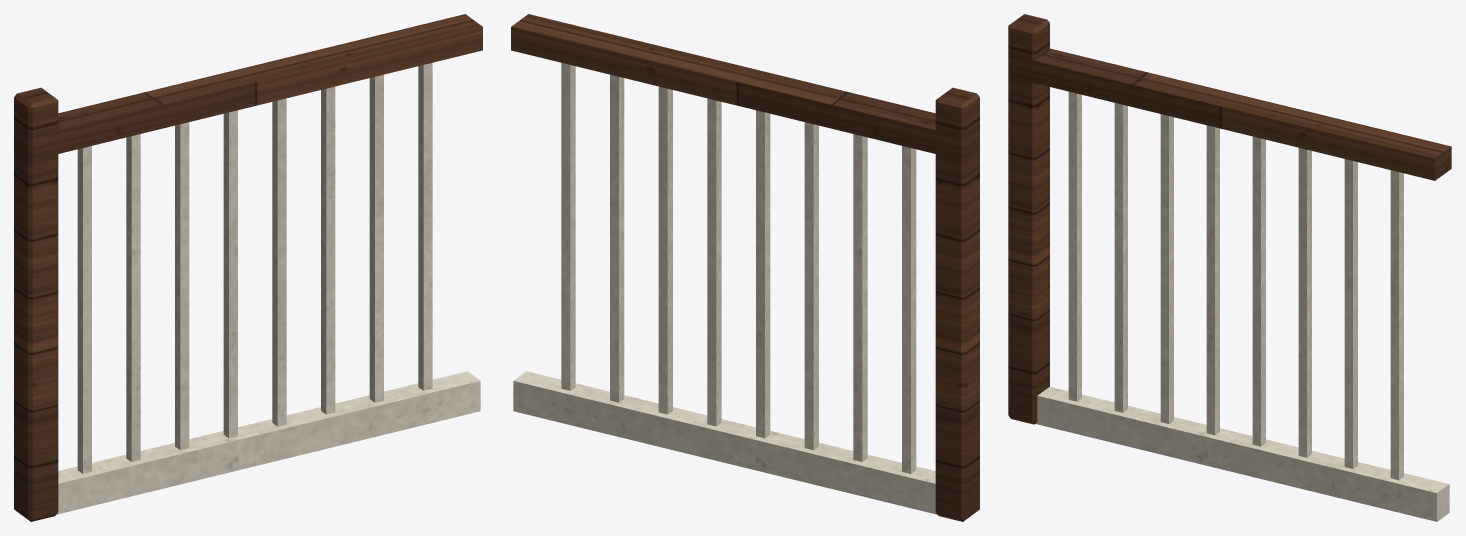
File: rail_116_10.glb
The picture shows the model from 3 angles, left to right: view 1: azimuth 30°, elevation 25°; view 2: azimuth 150°, elevation 25°; view 3: azimuth 330°, elevation 25°; orthographic projection. The views are drawn at different scales.
Visible parts, largest first — view 1: rail_116_10_trim, rail_116_10_wood; view 2: rail_116_10_trim, rail_116_10_wood; view 3: rail_116_10_trim, rail_116_10_wood.
Part boxes in pixels (box(x1,y1,x2,y2)): rail_116_10_trim: box(57, 63, 480, 514); rail_116_10_wood: box(14, 14, 482, 521); rail_116_10_trim: box(513, 63, 936, 514); rail_116_10_wood: box(511, 14, 979, 521); rail_116_10_trim: box(1035, 91, 1449, 521); rail_116_10_wood: box(1008, 14, 1451, 424).
Size of the model in its own units: 1.2 by 1.06 by 0.08.
Materials: 2 (2 with a texture image).
